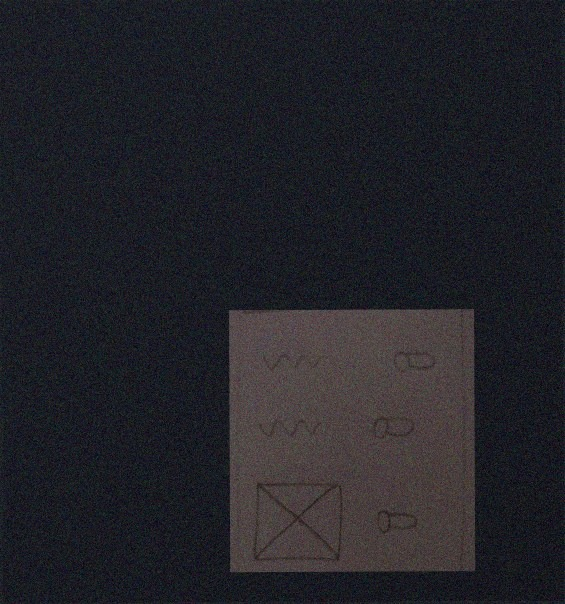image: (251, 478, 344, 566)
switch: (386, 343, 438, 375), (367, 411, 419, 443), (372, 505, 424, 537)
text: (255, 414, 328, 448), (260, 347, 332, 381)
